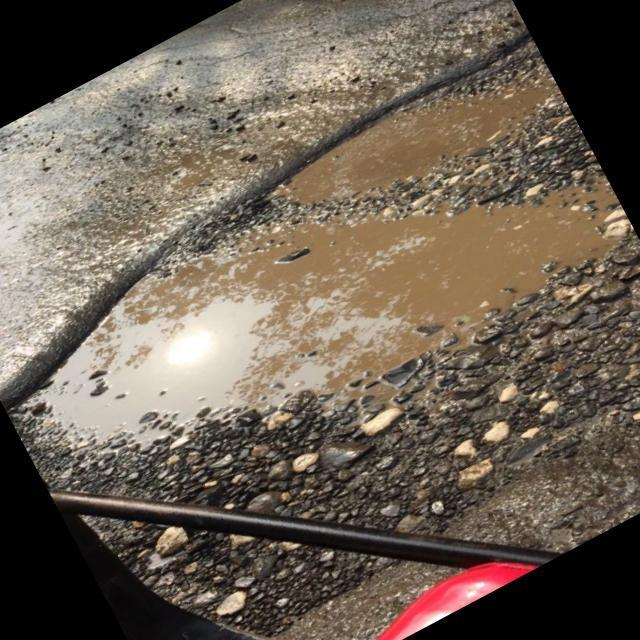Pothole: (0, 17, 640, 523)
